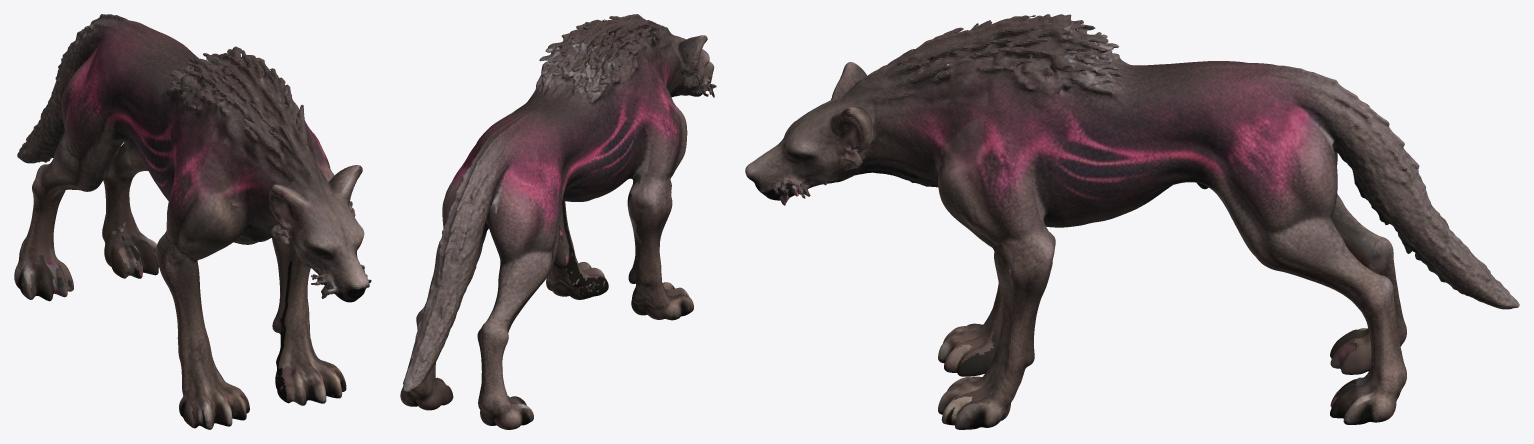
File: hound_ash.glb
3 views of the same model, side by side, from view 1: azimuth 30°, elevation 25°; view 2: azimuth 150°, elevation 25°; view 3: azimuth 270°, elevation 25° (orthographic). The views are drawn at different scales.
Visible parts, largest first — view 1: tmplnjt9qqf.ply; view 2: tmplnjt9qqf.ply; view 3: tmplnjt9qqf.ply.
Boxes of the visible parts, x1=… form: tmplnjt9qqf.ply: x1=14, y1=14, x2=371, y2=429; tmplnjt9qqf.ply: x1=400, y1=14, x2=716, y2=429; tmplnjt9qqf.ply: x1=745, y1=14, x2=1519, y2=429.
Size of the model in its own units: 0.5255 by 1.05 by 1.99.
Materials: 1 (1 with a texture image).
